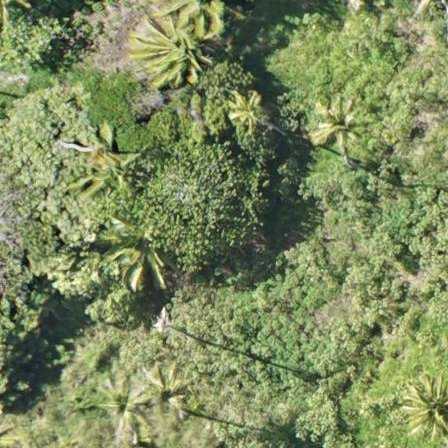palm_tree: (104, 217, 184, 293), (130, 17, 203, 81), (88, 375, 150, 441), (396, 366, 448, 440), (308, 95, 363, 154), (140, 362, 192, 419), (168, 1, 234, 37), (225, 88, 267, 135)
